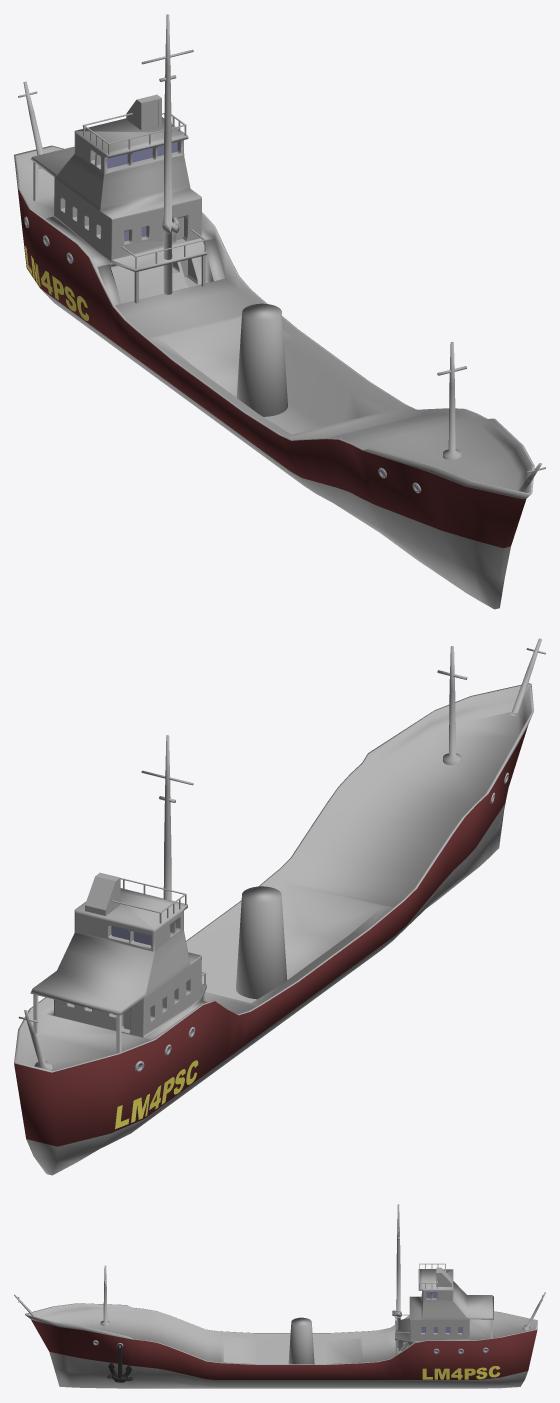
The model's file is D2_Ship4.glb.
3 views of the same model, one above another, from view 1: azimuth 30°, elevation 25°; view 2: azimuth 150°, elevation 25°; view 3: azimuth 270°, elevation 25° (orthographic). The views are drawn at different scales.
Parts seen in each view (by area): view 1: Object_6, Object_2, Cylinder, Text.002, Object_4; view 2: Object_6, Object_2, Cylinder, Text.002; view 3: Object_6, Object_2, Cylinder, Text.001, osnova_low.
Boxes of the visible parts, left/top/right/bottom form: Object_6: left=14, top=14, right=545, bottom=609; Object_2: left=15, top=164, right=526, bottom=548; Cylinder: left=236, top=303, right=287, bottom=416; Text.002: left=24, top=245, right=88, bottom=320; Object_4: left=26, top=141, right=418, bottom=490; Object_6: left=14, top=638, right=545, bottom=1175; Object_2: left=14, top=726, right=527, bottom=1146; Cylinder: left=236, top=886, right=287, bottom=999; Text.002: left=115, top=1060, right=198, bottom=1129; Object_6: left=14, top=1204, right=545, bottom=1388; Object_2: left=31, top=1319, right=537, bottom=1379; Cylinder: left=288, top=1317, right=314, bottom=1364; Text.001: left=422, top=1366, right=500, bottom=1379; osnova_low: left=107, top=1362, right=132, bottom=1382.
Bounding box in the file's own units: 6.51 × 16.34 × 43.39.
